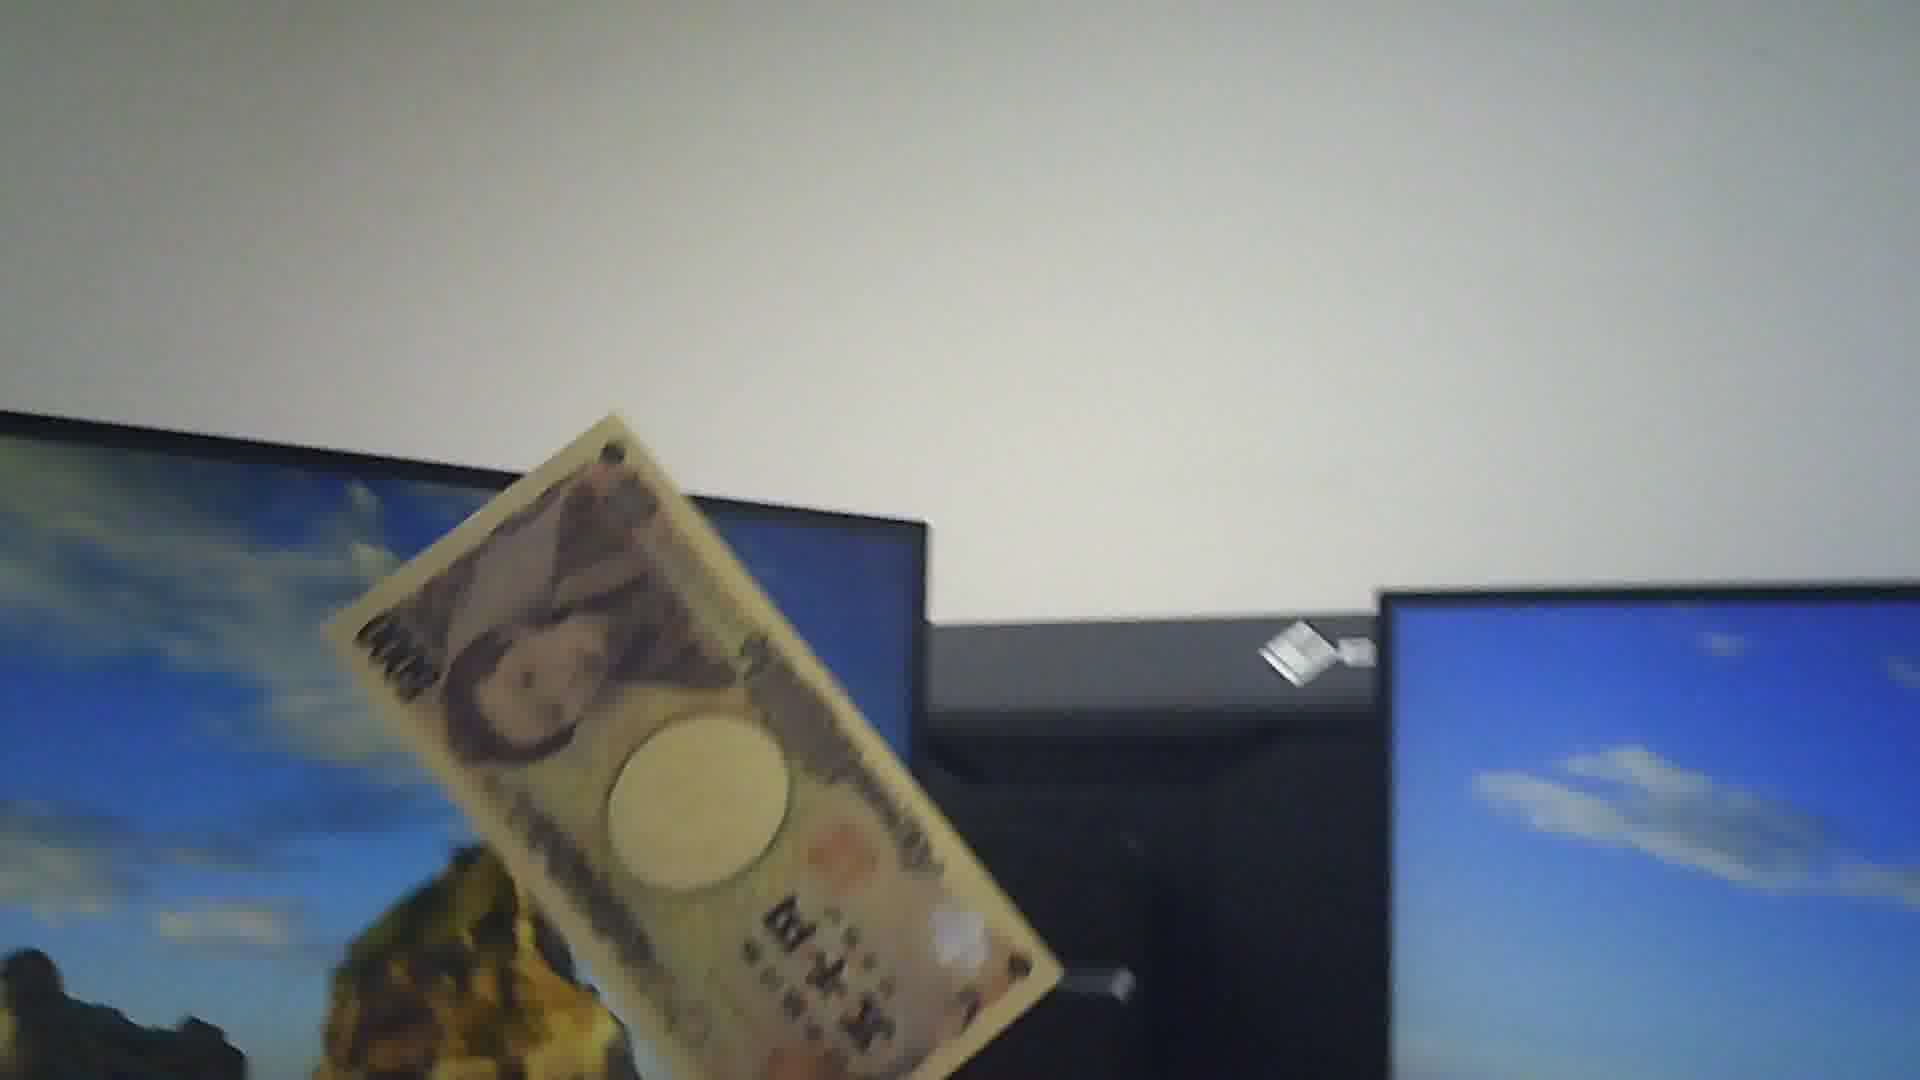5,000 Yen: (320, 410, 1047, 1079)
